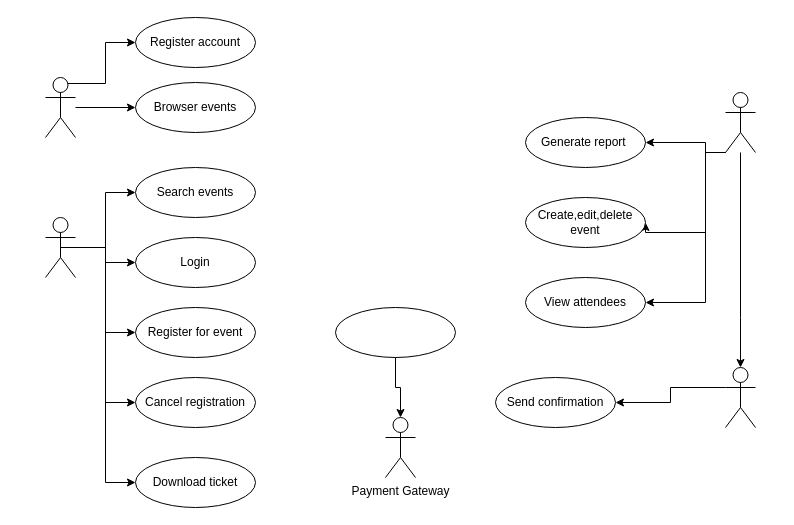
Some shapes in this 794 by 525 pixel diagram are drawn without their labels. The shapes that lost their labels are listed below. From the top down, each one's centre as x and y in pixels, then its label:
At point (60, 107): "Visitor".
At point (740, 122): "Admin".
At point (60, 247): "Registered User".
At point (395, 332): "Process Payment".
At point (740, 397): "Email Service".
